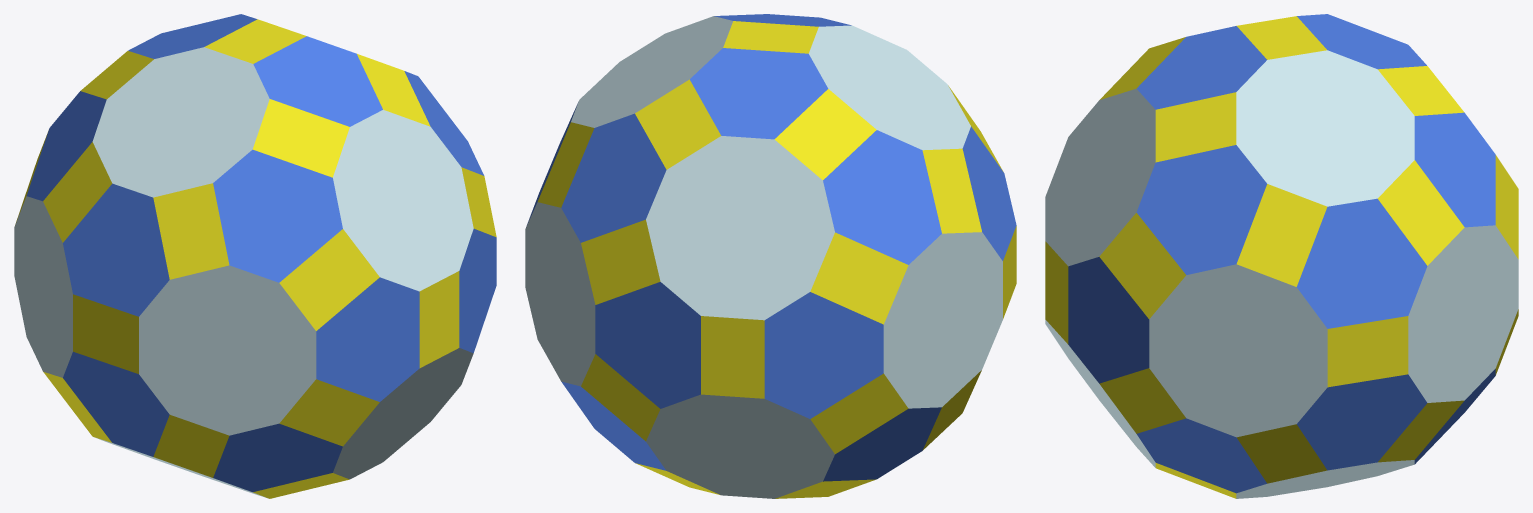
File: t-icosidodecahedron.fbx
3 views of the same model, side by side, from view 1: azimuth 30°, elevation 25°; view 2: azimuth 150°, elevation 25°; view 3: azimuth 270°, elevation 25° (orthographic).
Parts seen in each view (by area): view 1: polyhedronisme-taD; view 2: polyhedronisme-taD; view 3: polyhedronisme-taD.
Boxes of the visible parts, box(x1,y1,x2,y2) form: polyhedronisme-taD: box(14, 14, 496, 498); polyhedronisme-taD: box(525, 14, 1016, 498); polyhedronisme-taD: box(1045, 14, 1518, 498).
Bounding box in the file's own units: 195 × 195 × 192.
